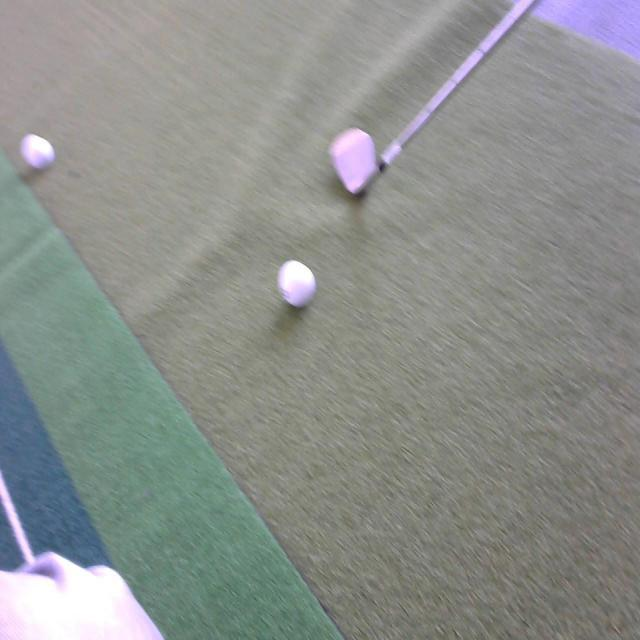ClubHead: (321, 104, 401, 208)
GolfBall: (268, 248, 326, 316), (18, 125, 56, 178)
